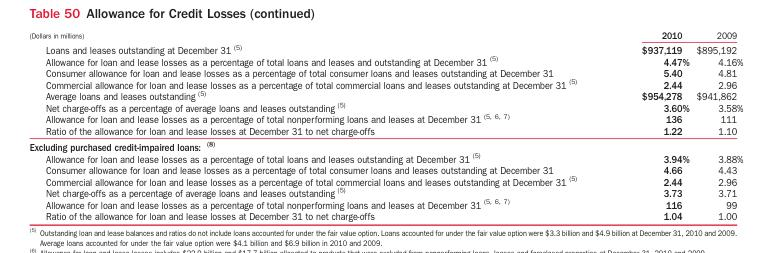table: (28, 28, 742, 221)
table column: (28, 28, 608, 221), (608, 28, 692, 221), (692, 28, 742, 221)
table column header: (28, 28, 742, 41)
table projected row header: (28, 137, 742, 151)
table row: (28, 137, 742, 151), (28, 28, 742, 41), (28, 41, 742, 54), (28, 54, 742, 67), (28, 124, 742, 137), (28, 151, 742, 164), (28, 197, 742, 210), (28, 77, 742, 89), (28, 89, 742, 101), (28, 112, 742, 124), (28, 174, 742, 186), (28, 101, 742, 112), (28, 186, 742, 197), (28, 210, 742, 221), (28, 67, 742, 77), (28, 164, 742, 174)
